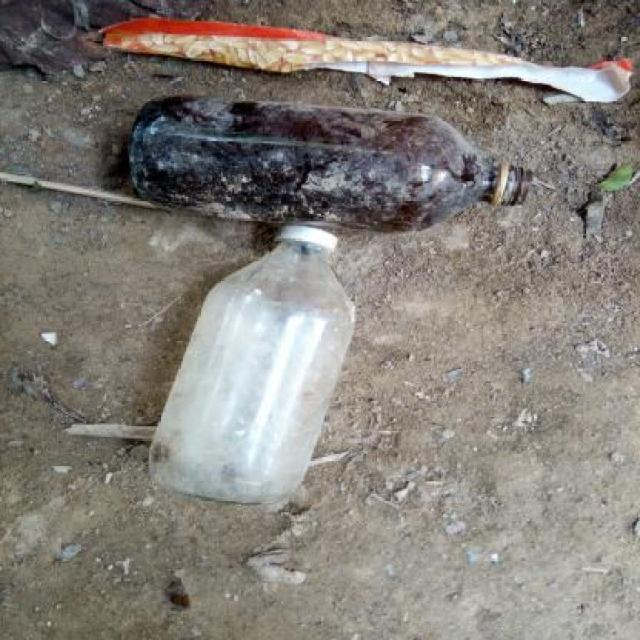garbage: (119, 234, 448, 503), (87, 9, 626, 136), (97, 102, 512, 261)
